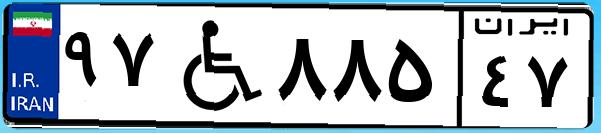4: (475, 38, 525, 113)
5: (385, 28, 445, 110)
7: (525, 38, 570, 115), (110, 28, 158, 98)
8: (270, 28, 330, 110), (330, 28, 385, 110)
9: (57, 26, 110, 100)
ژ (معلولین و جانبازان): (158, 12, 270, 120)
